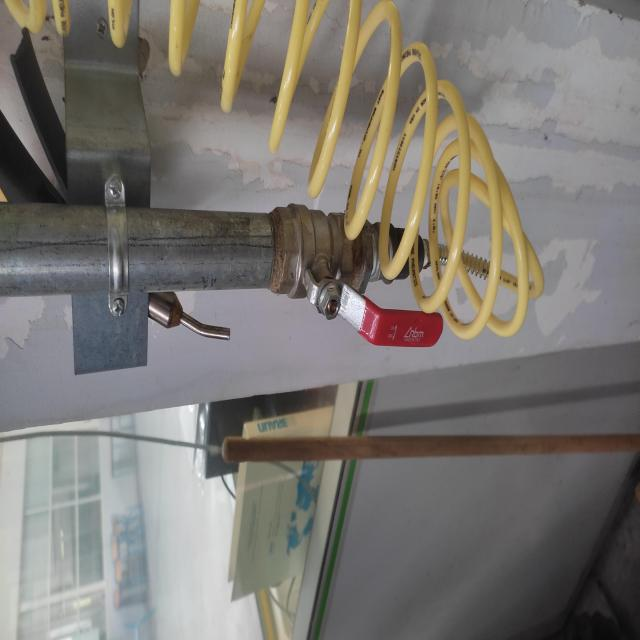opened_valve: (272, 200, 446, 349)
